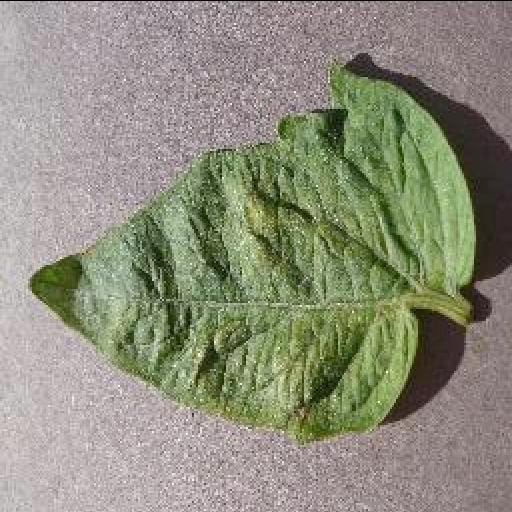disease_tomato: (29, 62, 479, 446)
